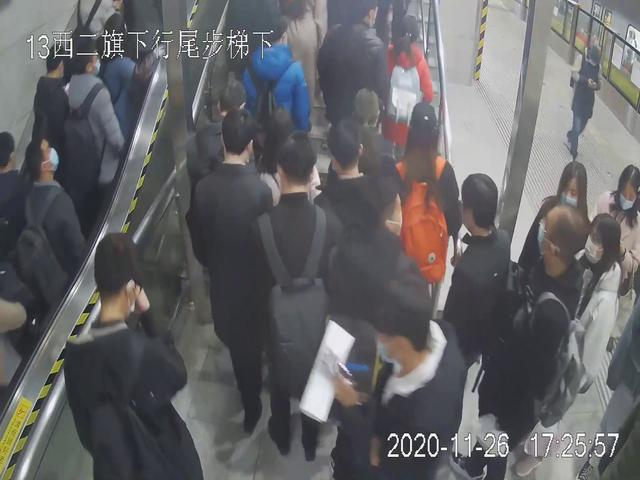person: (58, 236, 195, 480), (186, 117, 282, 450), (462, 202, 578, 477), (521, 209, 631, 480), (252, 133, 336, 447), (350, 286, 467, 479), (445, 173, 515, 426), (389, 105, 466, 290), (13, 140, 82, 299), (65, 41, 122, 217), (384, 11, 444, 146), (563, 42, 609, 162)
